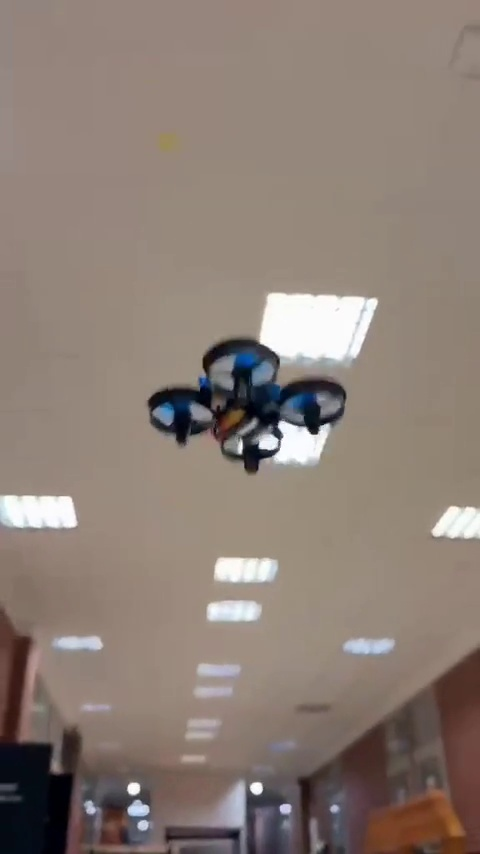drone: (141, 339, 345, 482)
